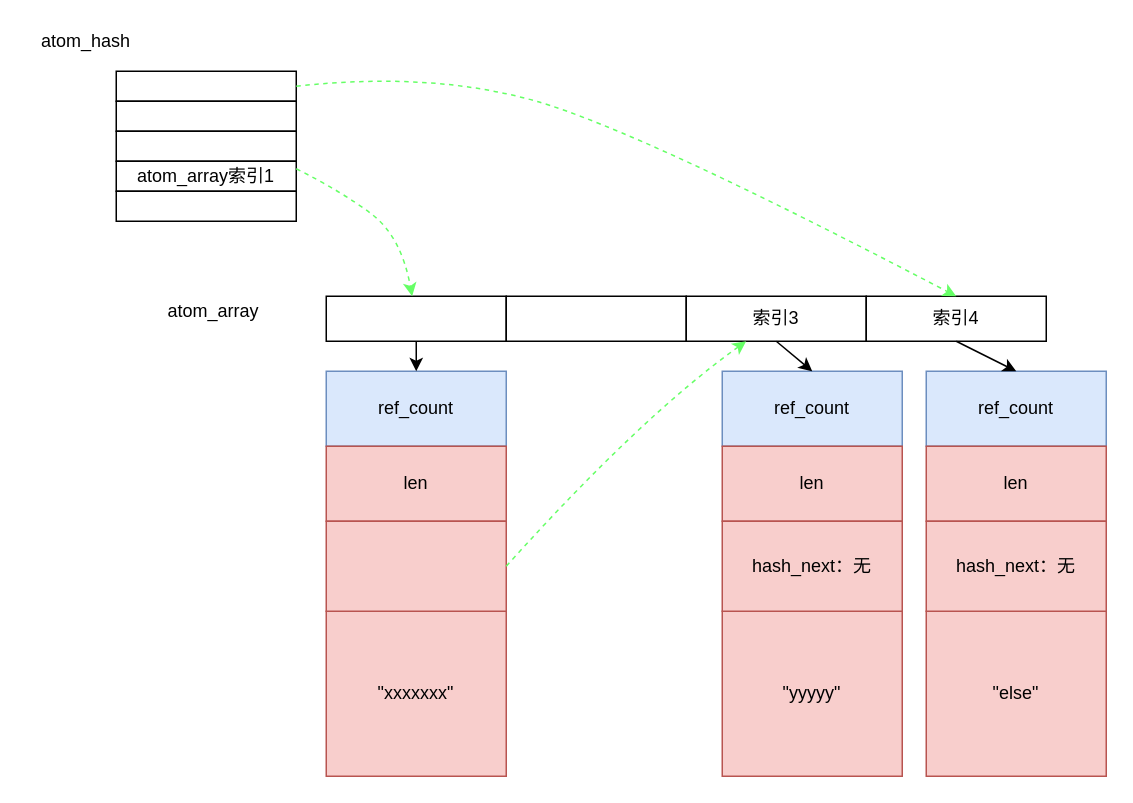
The diagram is 1133 pixels wide and 803 high, and some of its shapes have lost their labels. The centre of each missing label's shape, as x and y in pixels:
"atom_array索引4" belongs at (x=205, y=85).
"hash_next：索引3" belongs at (x=415, y=565).
"索引1" belongs at (x=415, y=318).
"索引2" belongs at (x=595, y=318).
